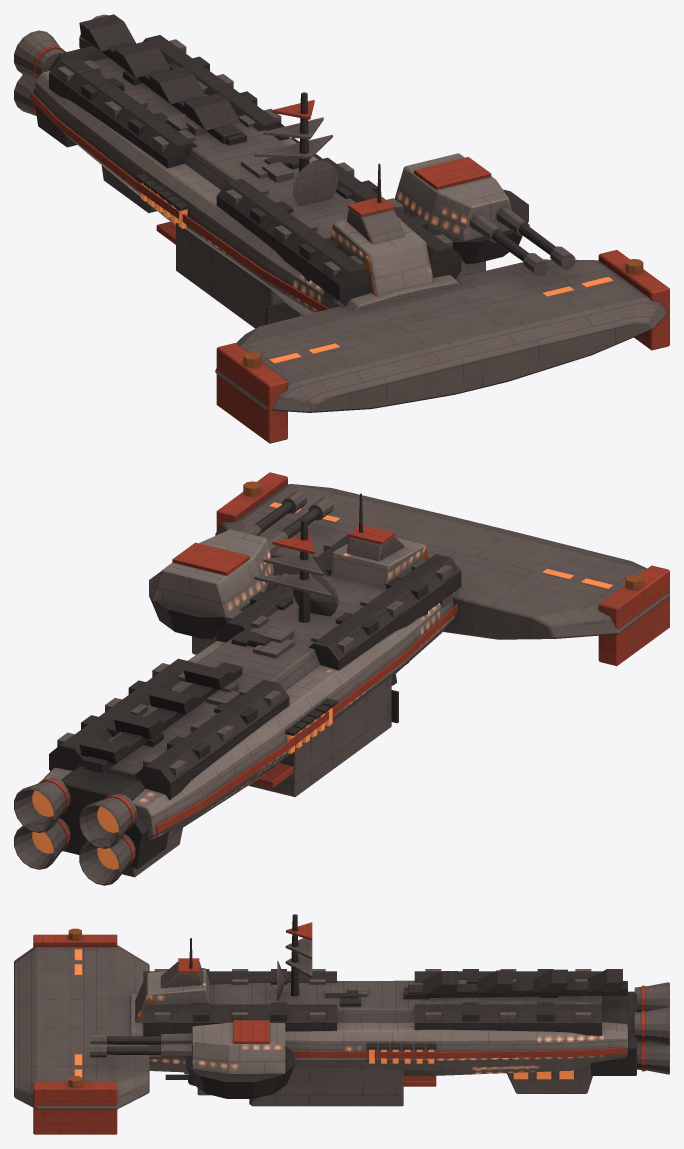
The model's file is vashkar_carrier.glb.
3 renders of one model, top to bottom at view 1: azimuth 30°, elevation 25°; view 2: azimuth 150°, elevation 25°; view 3: azimuth 270°, elevation 25°, orthographic. The views are drawn at different scales.
Parts seen in each view (by area): view 1: HULL, SYS_WPN1, SYS_BUS_F, SYS_BUS_A, SYS_BRIDGE, SYS_HANGAR, SYS_SENSORS, SYS_DRIVE, SYS_REACTOR; view 2: HULL, SYS_DRIVE, SYS_WPN1, SYS_BUS_A, SYS_BUS_F, SYS_HANGAR, SYS_BRIDGE, SYS_SENSORS, SYS_REACTOR; view 3: HULL, SYS_WPN1, SYS_BUS_A, SYS_BUS_F, SYS_HANGAR, SYS_DRIVE, SYS_BRIDGE, SYS_JUMP, SYS_SENSORS, SYS_REACTOR.
Boxes of the visible parts, <box> form: HULL: <box>30,14,669,443</box>; SYS_WPN1: <box>394,153,575,277</box>; SYS_BUS_F: <box>216,157,461,305</box>; SYS_BUS_A: <box>49,35,289,168</box>; SYS_BRIDGE: <box>331,163,434,296</box>; SYS_HANGAR: <box>176,223,302,328</box>; SYS_SENSORS: <box>254,92,338,206</box>; SYS_DRIVE: <box>14,14,133,147</box>; SYS_REACTOR: <box>136,137,322,244</box>; HULL: <box>42,472,669,840</box>; SYS_DRIVE: <box>14,766,168,885</box>; SYS_WPN1: <box>149,490,333,654</box>; SYS_BUS_A: <box>49,658,289,799</box>; SYS_BUS_F: <box>216,534,461,670</box>; SYS_HANGAR: <box>248,676,398,796</box>; SYS_BRIDGE: <box>330,493,428,589</box>; SYS_SENSORS: <box>254,518,338,622</box>; SYS_REACTOR: <box>253,698,337,787</box>; HULL: <box>14,928,627,1134</box>; SYS_WPN1: <box>90,1020,294,1098</box>; SYS_BUS_A: <box>414,969,601,1035</box>; SYS_BUS_F: <box>143,969,336,1036</box>; SYS_HANGAR: <box>249,1066,403,1106</box>; SYS_DRIVE: <box>591,982,669,1075</box>; SYS_BRIDGE: <box>135,938,210,1022</box>; SYS_JUMP: <box>507,1068,592,1093</box>; SYS_SENSORS: <box>277,914,312,1000</box>; SYS_REACTOR: <box>367,1043,436,1086</box>.
Size of the model in its own units: 32.12 by 16.63 by 57.17.
Materials: 1 (1 with a texture image).
